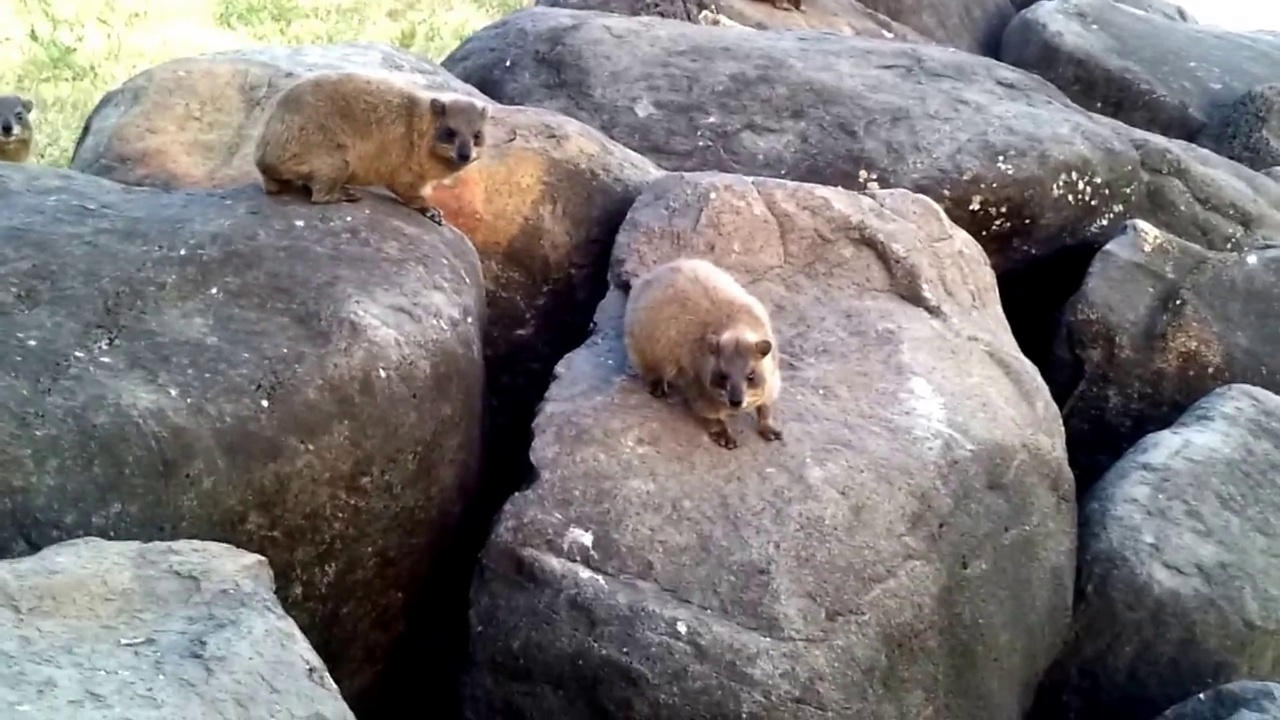Rock Hyrex: (254, 70, 491, 226), (624, 257, 787, 448), (1, 97, 32, 169)
